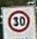limite 30: (7, 10, 30, 32)
